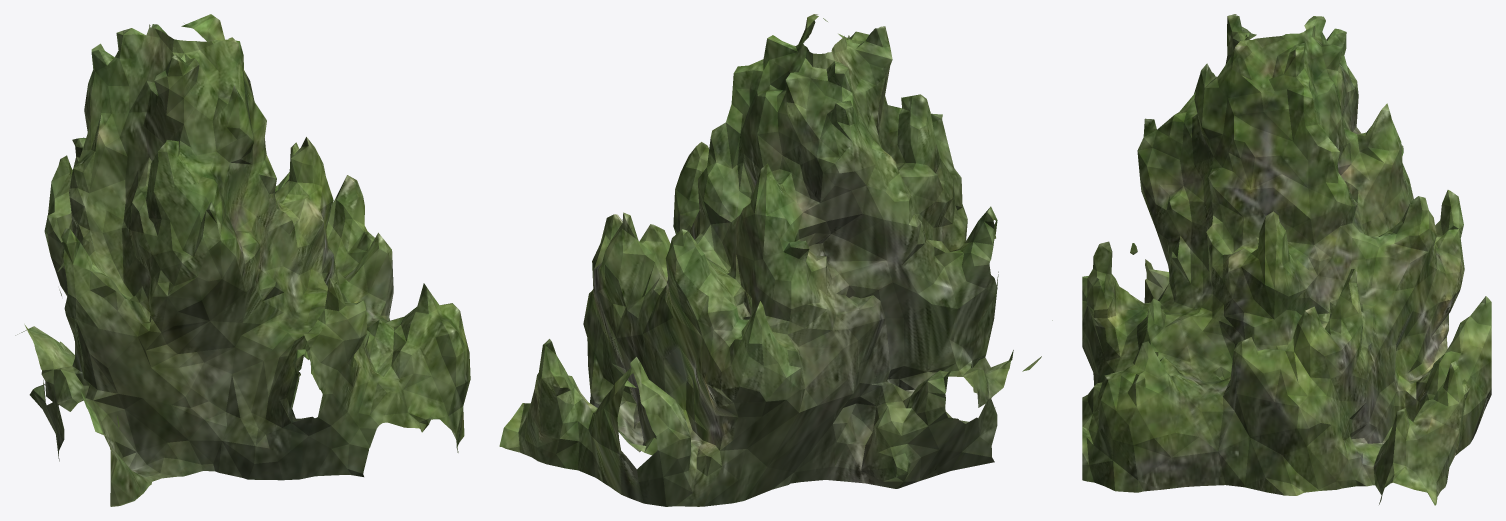
3 renders of one model, left to right at view 1: azimuth 30°, elevation 25°; view 2: azimuth 150°, elevation 25°; view 3: azimuth 270°, elevation 25°, orthographic. The views are drawn at different scales.
Bounding box in the file's own units: 2.95 × 2.95 × 2.95.
Materials: 6 (6 with a texture image).
